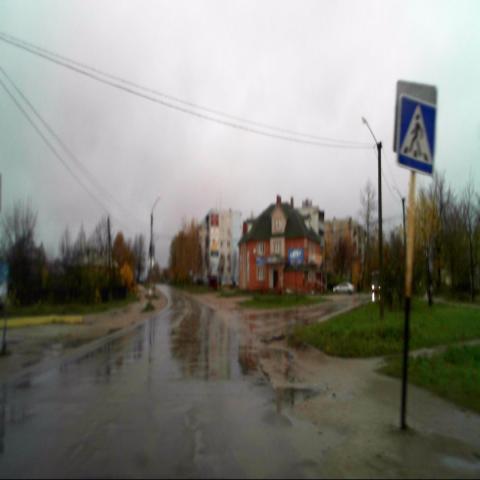5_19_1: (397, 94, 436, 176)
